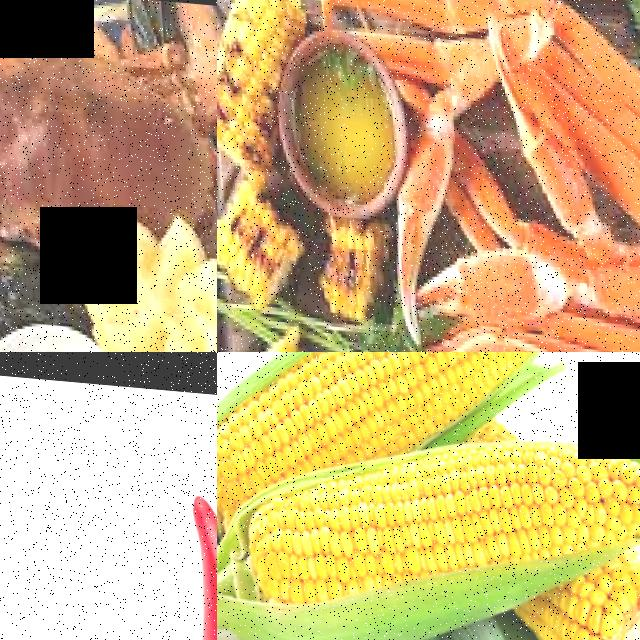chilli: (0, 442, 217, 640)
corn: (239, 441, 464, 623), (439, 417, 640, 585), (217, 352, 417, 499), (396, 352, 560, 425), (528, 545, 640, 640)
crab: (418, 0, 640, 224), (455, 209, 640, 352)
